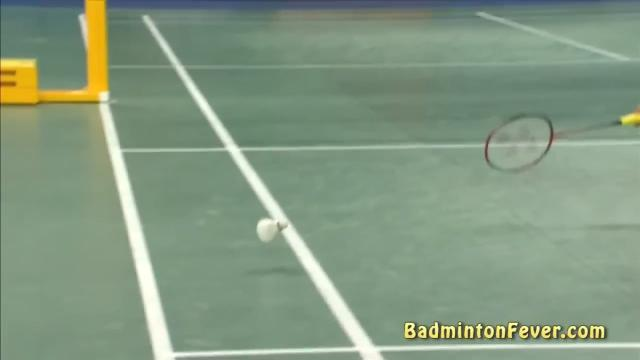Shuttlecock: (250, 214, 292, 246)
